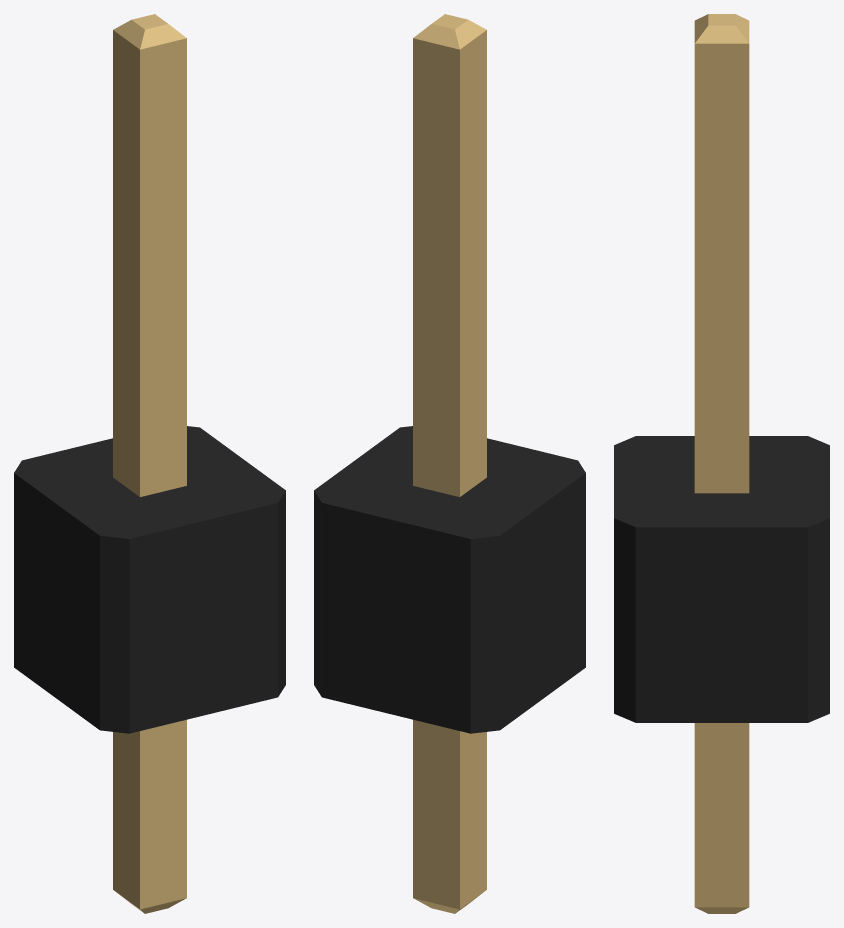
File: PinHeader_1x01_P2.54mm_Vertical.glb
3 views of the same model, side by side, from view 1: azimuth 30°, elevation 25°; view 2: azimuth 150°, elevation 25°; view 3: azimuth 270°, elevation 25° (orthographic).
Visible parts, largest first — view 1: =>[0:1:1:3]; view 2: =>[0:1:1:3]; view 3: =>[0:1:1:3].
Boxes of the visible parts, x1,y1,x2,y2 form: =>[0:1:1:3]: [14, 14, 285, 913]; =>[0:1:1:3]: [314, 14, 585, 913]; =>[0:1:1:3]: [614, 14, 829, 913].
Bounding box in the file's own units: 0.00254 × 0.0115 × 0.00254.
